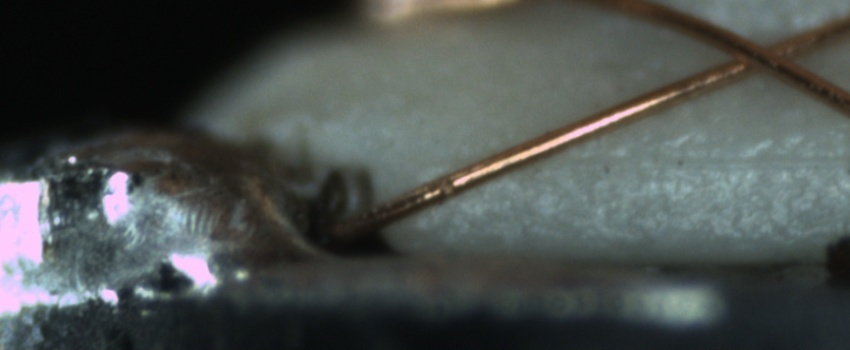CL: (708, 26, 812, 83)
DL: (538, 129, 849, 193)
